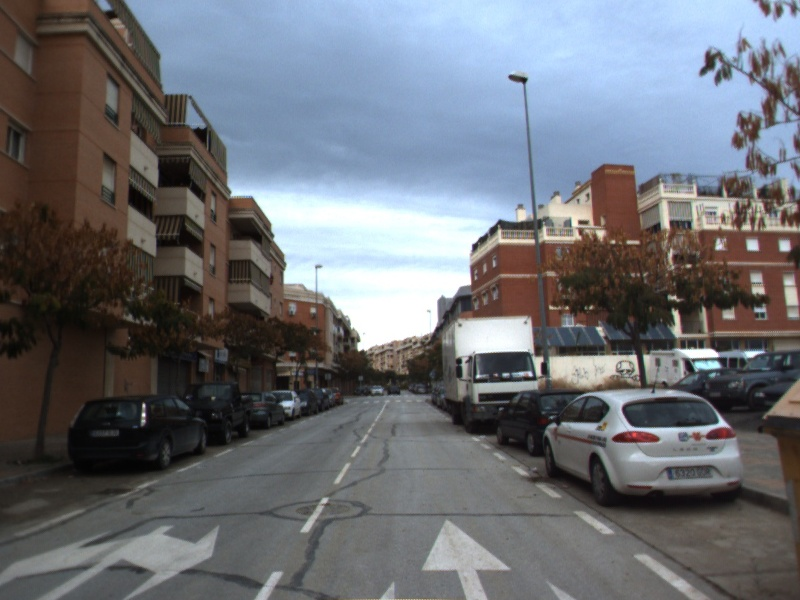STRAIGHT: (417, 512, 516, 600)
